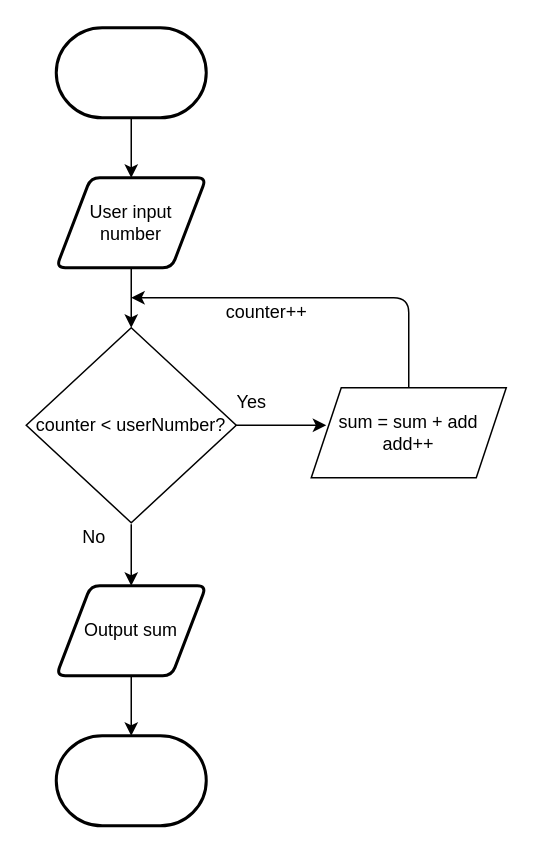
Some shapes in this 533 by 852 pixel diagram are drawn without their labels. The centre of each missing label's shape, as x and y in pixels:
"Start" goes at (130,72).
"Stop" goes at (130,780).
